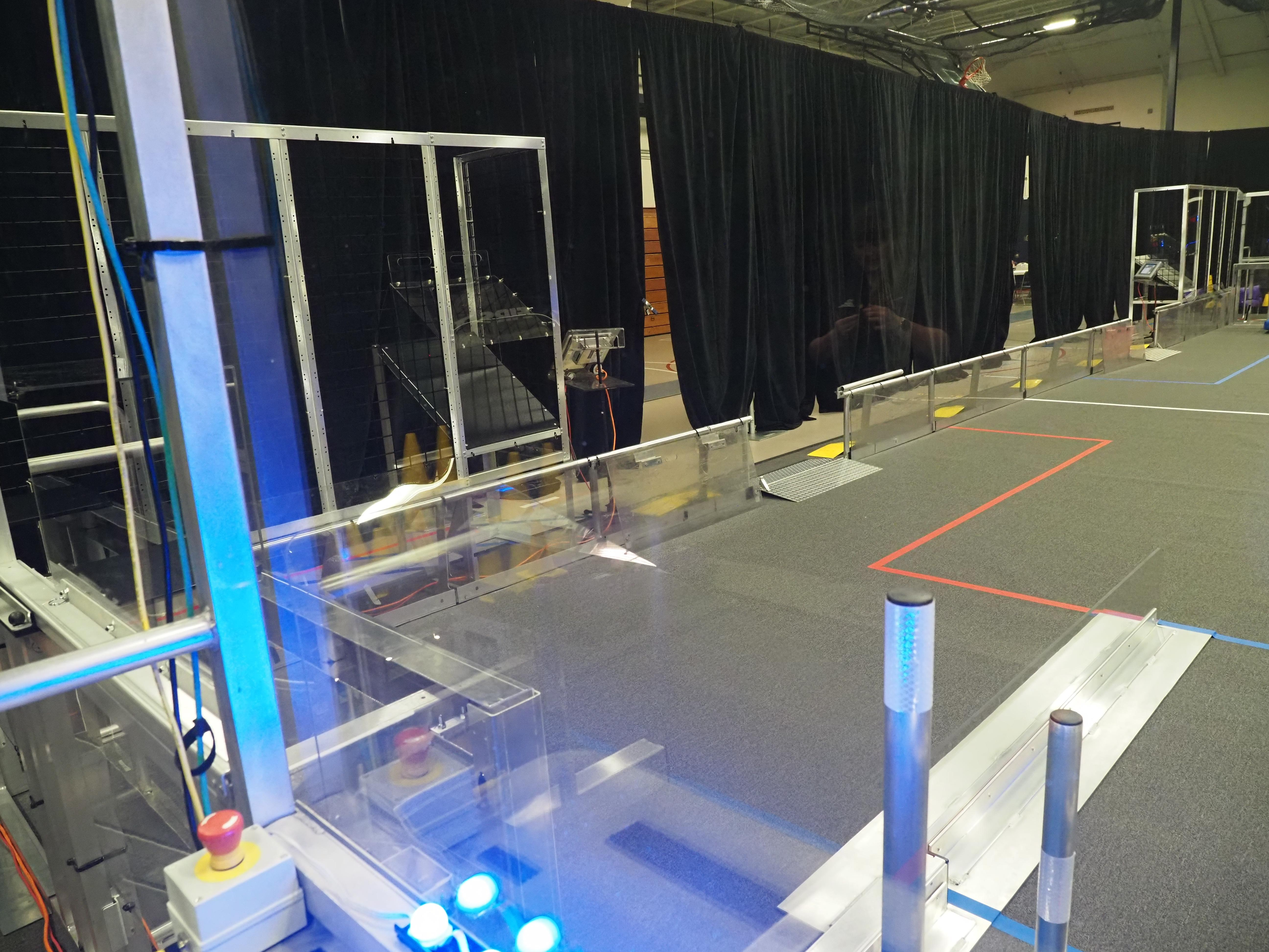cone: (1262, 291, 1269, 311)
cube: (1239, 282, 1262, 298)
